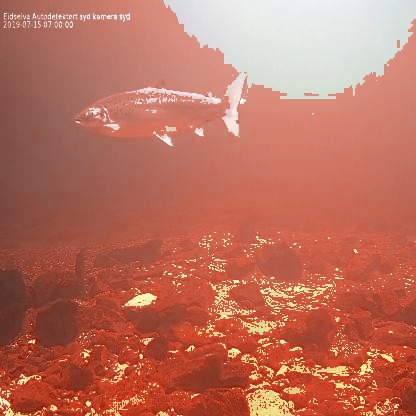salmon: (71, 67, 249, 149)
